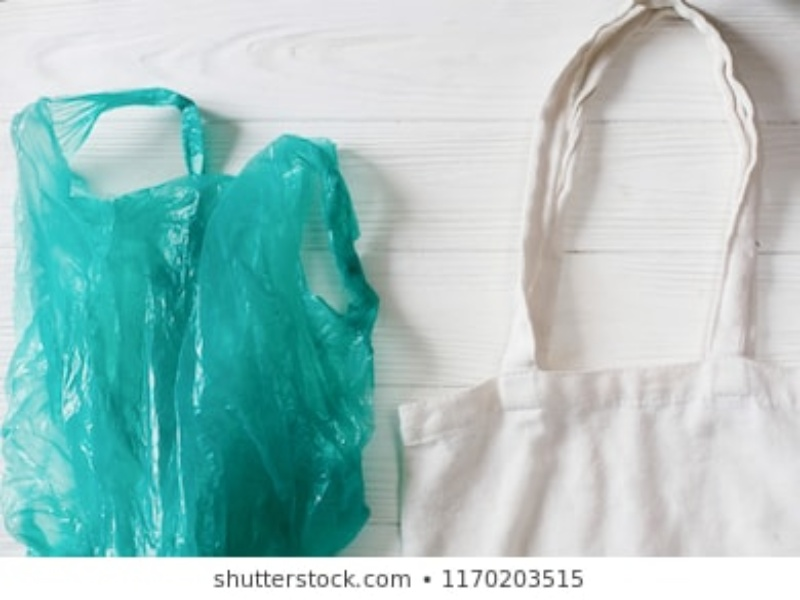plastic-bag: (2, 84, 377, 557)
